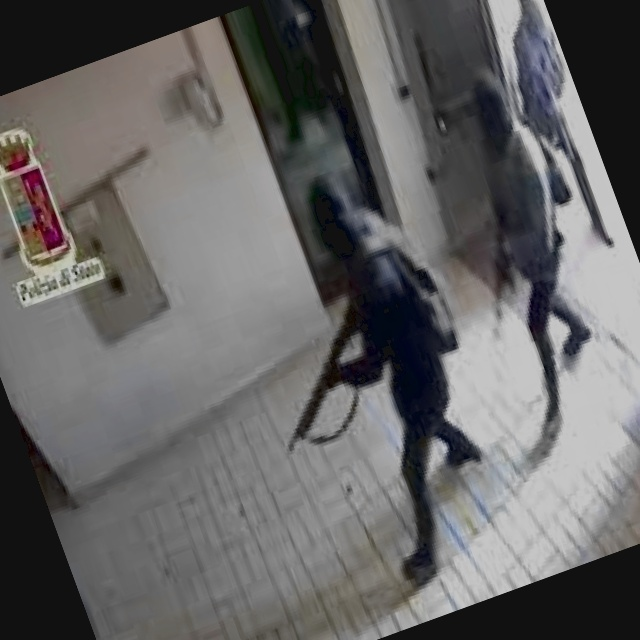gun: (239, 290, 403, 466), (452, 222, 542, 344)
